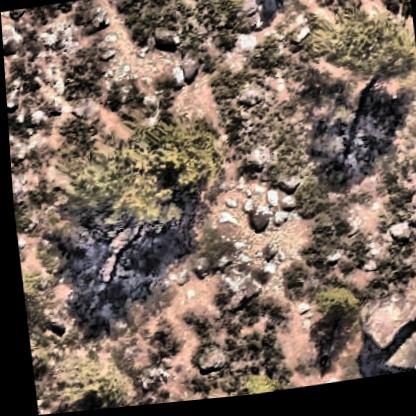tree-top: (313, 5, 414, 122), (126, 104, 227, 216), (56, 156, 136, 245), (37, 358, 124, 415), (301, 290, 356, 345)
